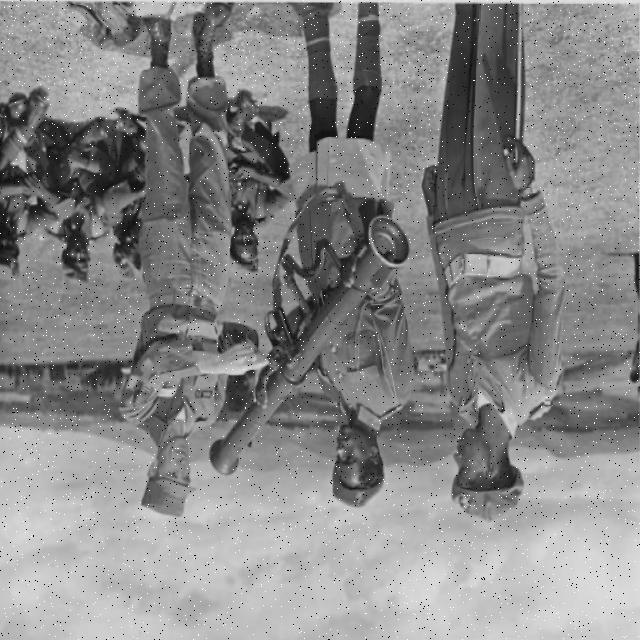bazooka: (199, 211, 417, 485)
